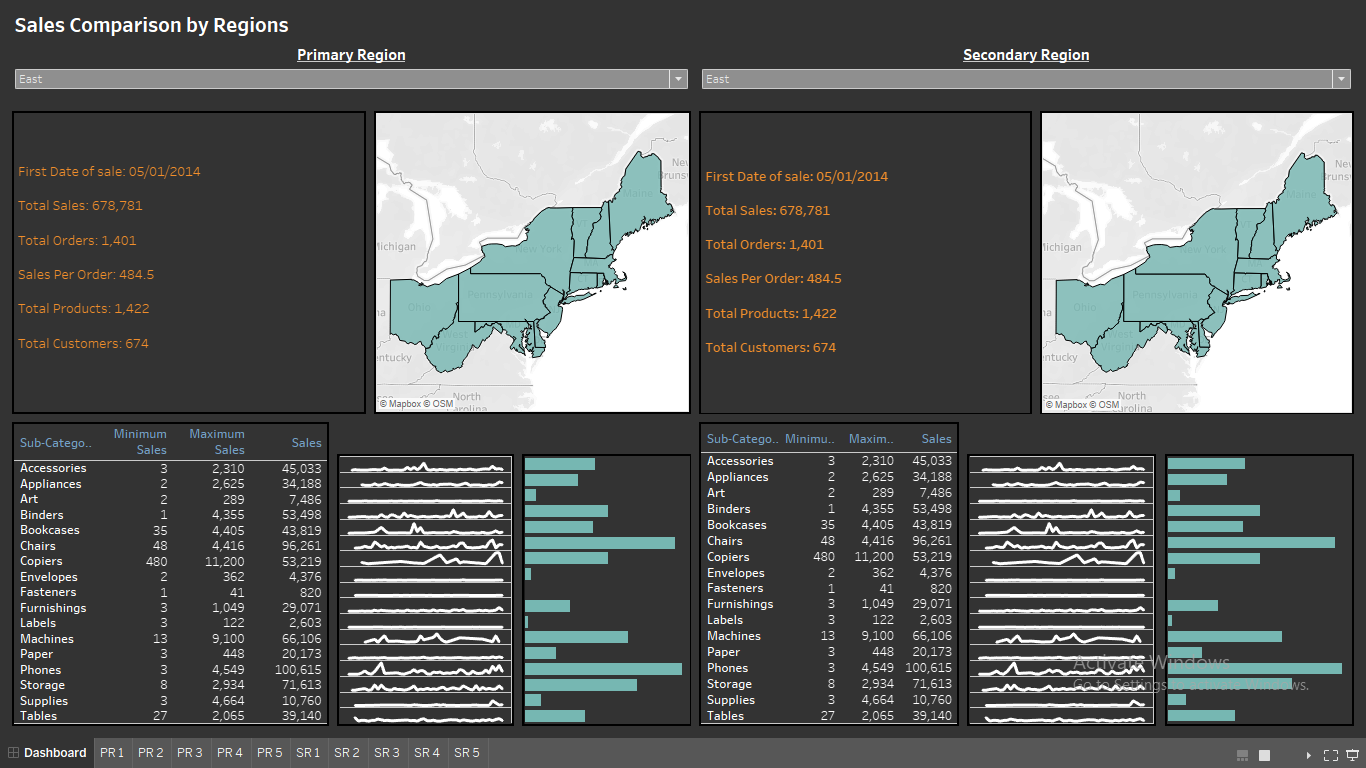

What the dashboard file says about the page in this screenshot:
{"tool":"tableau","page":{"name":"Dashboard","canvas":[1000,1000],"units":"permille","ordinal":0},"visuals":[{"type":"title","box":[5.9,10.8,988.3,43.4]},{"type":"parameter","param":"[Parameters].[Parameter 1]","box":[5.9,54.2,503.1,90.6]},{"type":"parameter","param":"[Parameters].[Primary Region (copy)_1172906258234417152]","box":[509,54.2,485.2,90.6]},{"type":"worksheet","title":"PR 1","mark":"Automatic","box":[5.9,144.8,265,421.7]},{"type":"worksheet","title":"PR 2","mark":"Multipolygon","box":[270.9,144.8,238.1,421.7]},{"type":"worksheet","title":"SR 1","mark":"Automatic","box":[509,144.8,249.6,422.1]},{"type":"worksheet","title":"SR 2","mark":"Multipolygon","box":[758.6,144.8,235.5,422.1]},{"type":"worksheet","title":"PR 3","mark":"Automatic","rows":["Sub-Category"],"box":[5.9,566.5,237.7,422.7]},{"type":"blank","box":[243.6,566.5,135.3,43.4]},{"type":"blank","box":[378.9,566.5,130.1,43.4]},{"type":"worksheet","title":"SR 3","mark":"Automatic","rows":["Sub-Category"],"box":[509,566.9,196.2,422.3]},{"type":"blank","box":[705.2,566.9,144.5,43.4]},{"type":"blank","box":[849.6,566.9,144.5,43.5]},{"type":"worksheet","title":"PR 4","mark":"Automatic","rows":["Sub-Category","Sales"],"cols":["Order Date"],"box":[243.6,609.9,135.3,379.3]},{"type":"worksheet","title":"PR 5","mark":"Bar","rows":["Sub-Category"],"cols":["Sales"],"box":[378.9,609.9,130.1,379.3]},{"type":"worksheet","title":"SR 4","mark":"Automatic","rows":["Sub-Category","Sales"],"cols":["Order Date"],"box":[705.2,610.3,144.5,378.9]},{"type":"worksheet","title":"SR 5","mark":"Automatic","rows":["Sub-Category"],"cols":["Sales"],"box":[849.6,610.4,144.5,378.8]}]}

Visuals, with their boxes on the dashboard's canvas, which has no fixed pixel size, in thousandths of its width and height (x1, y1, x2, y2). These are canvas units, not pixel positions in the 1366x768 screenshot, which may show the page scaled, cropped or inside an application window:
title: box=[6, 11, 994, 54]
parameter: box=[6, 54, 509, 145]
parameter: box=[509, 54, 994, 145]
"PR 1" worksheet: box=[6, 145, 271, 566]
"PR 2" worksheet (Multipolygon marks): box=[271, 145, 509, 566]
"SR 1" worksheet: box=[509, 145, 759, 567]
"SR 2" worksheet (Multipolygon marks): box=[759, 145, 994, 567]
"PR 3" worksheet: box=[6, 566, 244, 989]
blank: box=[244, 566, 379, 610]
blank: box=[379, 566, 509, 610]
"SR 3" worksheet: box=[509, 567, 705, 989]
blank: box=[705, 567, 850, 610]
blank: box=[850, 567, 994, 610]
"PR 4" worksheet: box=[244, 610, 379, 989]
"PR 5" worksheet (Bar marks): box=[379, 610, 509, 989]
"SR 4" worksheet: box=[705, 610, 850, 989]
"SR 5" worksheet: box=[850, 610, 994, 989]
